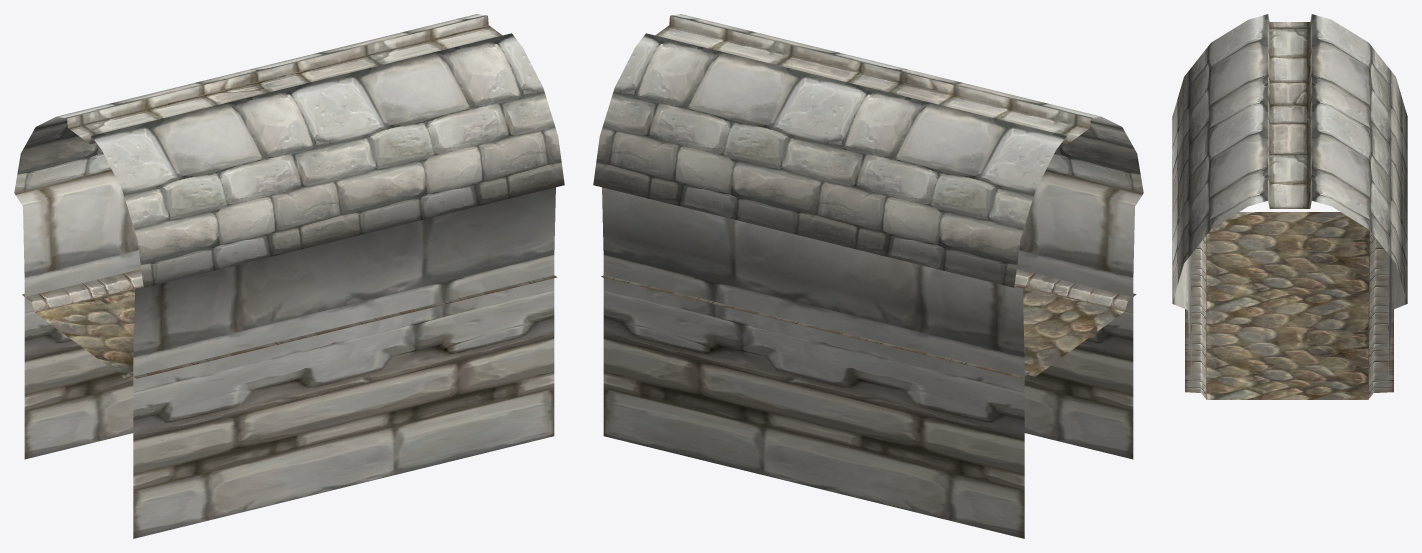
The model's file is stormwind_006.fbx.
The picture shows the model from 3 angles, left to right: view 1: azimuth 30°, elevation 25°; view 2: azimuth 150°, elevation 25°; view 3: azimuth 270°, elevation 25°; orthographic projection. The views are drawn at different scales.
Visible parts, largest first — view 1: stormwind_006_11, stormwind_006_4, stormwind_006_5, stormwind_006_46, stormwind_006_12; view 2: stormwind_006_11, stormwind_006_4, stormwind_006_5, stormwind_006_46, stormwind_006_12; view 3: stormwind_006_4, stormwind_006_46, stormwind_006_5, stormwind_006_12, stormwind_006_11.
Part boxes in pixels (<box>): stormwind_006_11: <box>14,169,555,538</box>; stormwind_006_4: <box>14,14,564,287</box>; stormwind_006_5: <box>67,15,502,144</box>; stormwind_006_46: <box>36,289,134,378</box>; stormwind_006_12: <box>22,269,557,378</box>; stormwind_006_11: <box>602,169,1143,538</box>; stormwind_006_4: <box>593,14,1143,287</box>; stormwind_006_5: <box>655,15,1090,144</box>; stormwind_006_46: <box>1014,285,1124,376</box>; stormwind_006_12: <box>601,269,1136,378</box>; stormwind_006_4: <box>1172,14,1407,302</box>; stormwind_006_46: <box>1206,212,1369,399</box>; stormwind_006_5: <box>1268,16,1311,208</box>; stormwind_006_12: <box>1185,230,1393,399</box>; stormwind_006_11: <box>1172,255,1407,375</box>.
Bounding box in the file's own units: 18.89 × 15.95 × 10.07.
